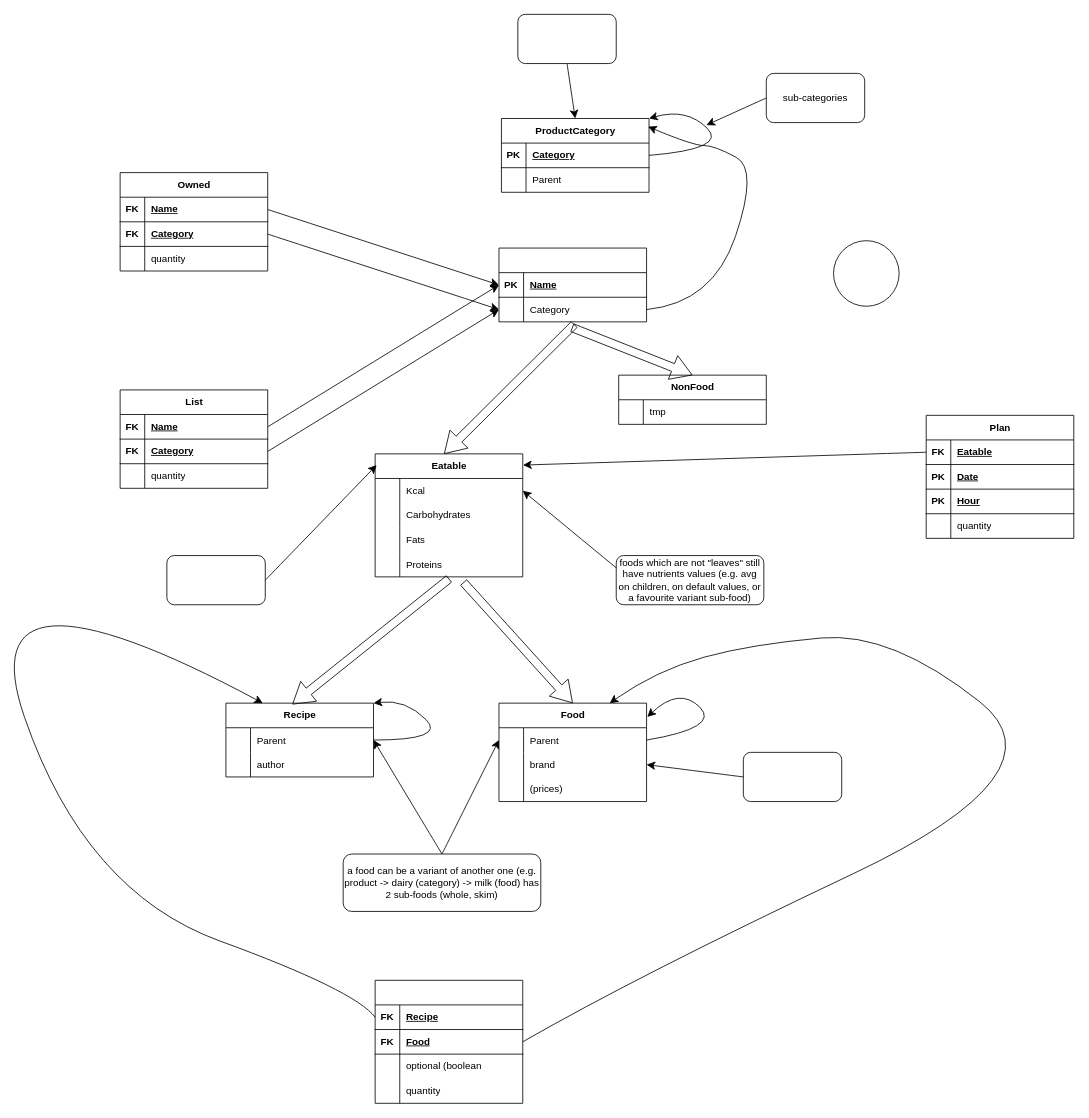
This 1089x1118 diagram has some shape labels left out. The box of each missing label's shape, as (x1, y1, x2, y2) in pixels:
a food with a brand is a "leaf" (no onther can have it as parent): (743, 752, 842, 802)
an abstract product (category): (517, 14, 616, 64)
Ingredient: (374, 979, 523, 1103)
nutrients refer to 100g of eatable product (e.g. don't consider bones): (166, 555, 265, 605)
Product: (498, 247, 647, 322)
servings (e.g. even pack for non-food): (833, 240, 899, 306)
